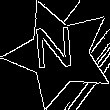N_S: (37, 27, 82, 80)
